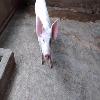heo: (32, 14, 63, 64)
